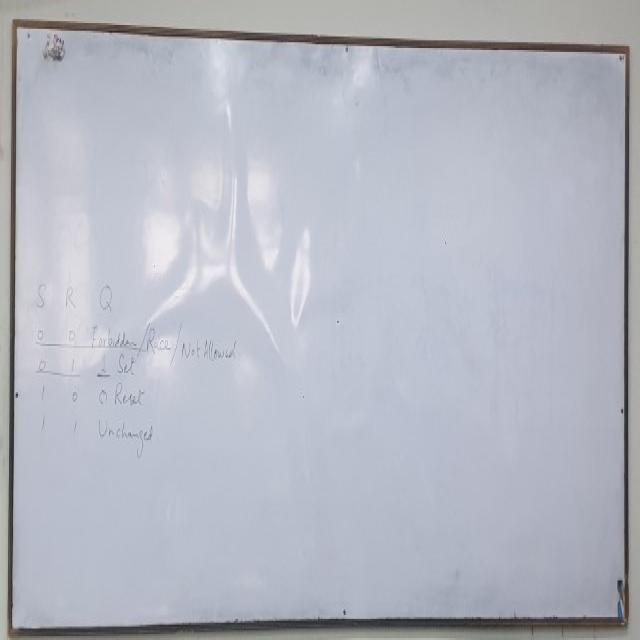White-board: (11, 25, 627, 633)
